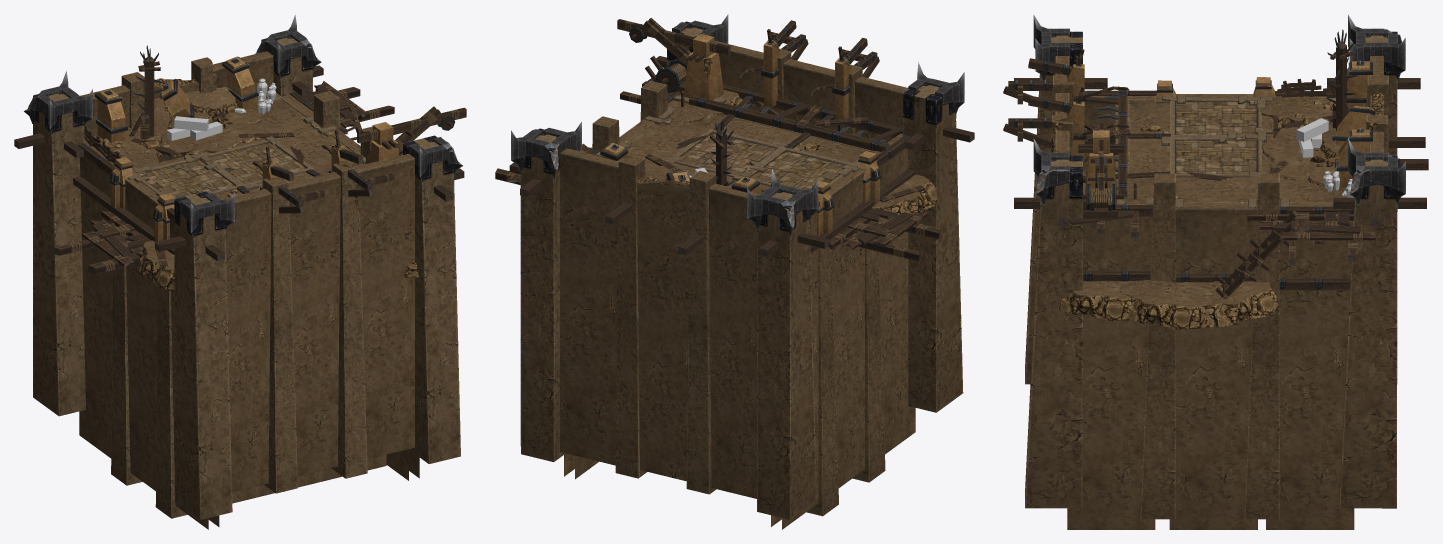
File: Cell2LR.fbx
3 renders of one model, left to right at view 1: azimuth 30°, elevation 25°; view 2: azimuth 150°, elevation 25°; view 3: azimuth 270°, elevation 25°, orthographic. The views are drawn at different scales.
Visible parts, largest first — view 1: Cell2LR; view 2: Cell2LR; view 3: Cell2LR.
Boxes of the visible parts, x1,y1,x2,y2 form: Cell2LR: [14, 15, 466, 529]; Cell2LR: [495, 14, 974, 529]; Cell2LR: [1003, 14, 1428, 529].
Size of the model in its own units: 34.12 by 34.96 by 31.05.
